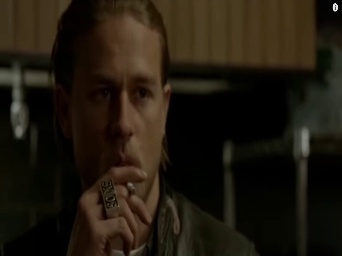smoke: (123, 178, 135, 194)
